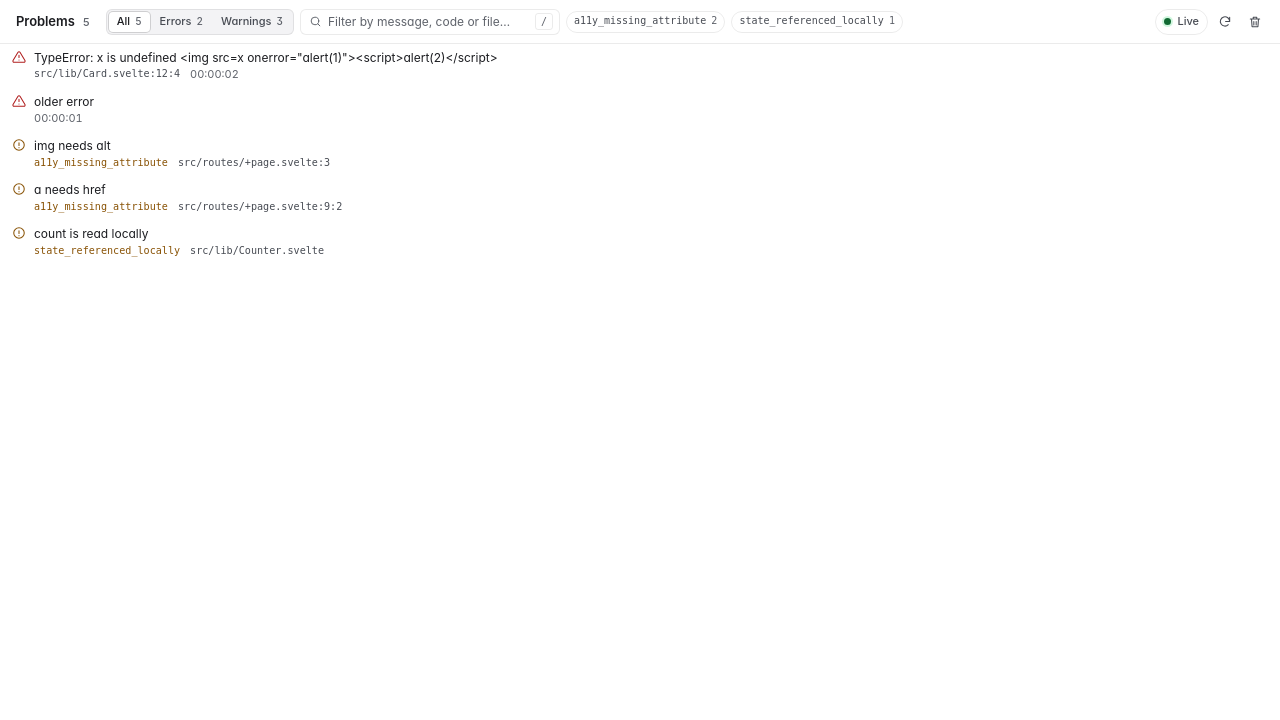
it: ErrorDashboard › keeps the selected error selected when a newer one arrives
This screenshot has width=1280, height=720.
Click the option "older error 00:00:01" at coordinates (53, 110), box top-left (12, 94), bottom-right (94, 125)
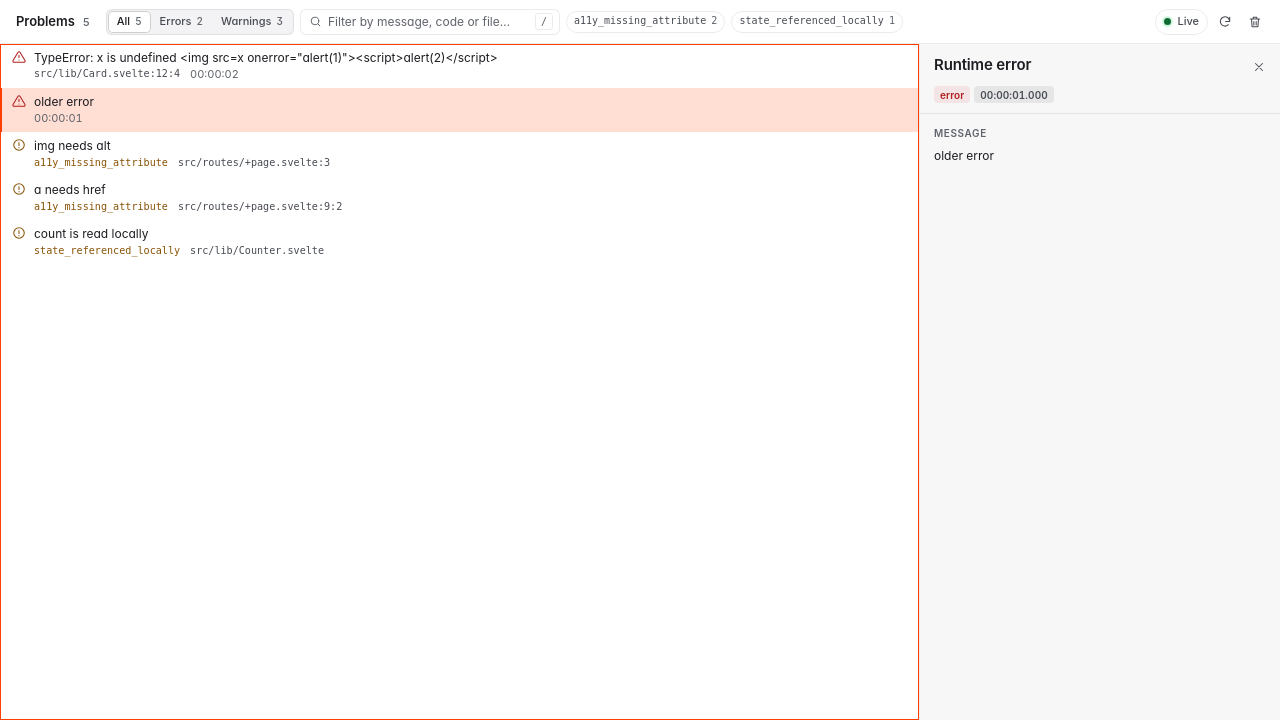
Result: the element showing "Runtime error error 00:00:01.000 Message older error" is shown at top-left (920, 54), bottom-right (1279, 162)
Click the button named "Refresh" at coordinates (1225, 22), box top-left (1212, 8), bottom-right (1238, 34)
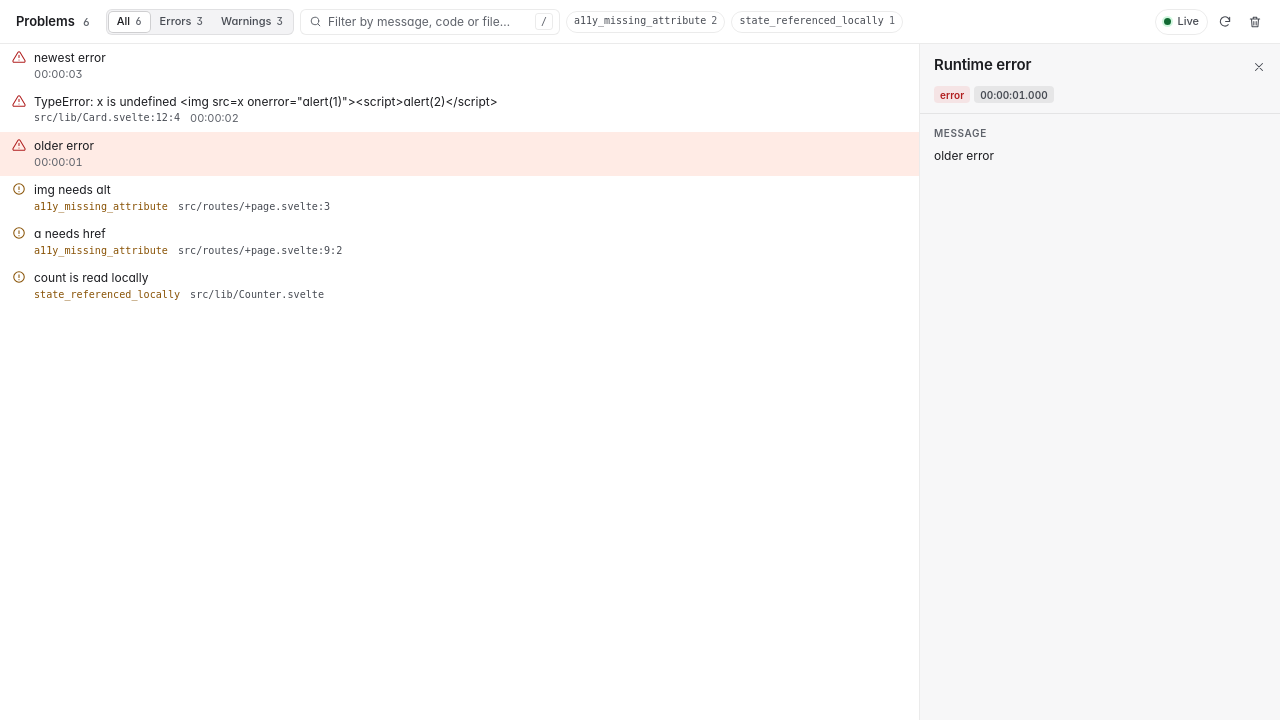
Expected: the text with class "msg" below "00:00:02" reads "older error", top-left (34, 138), bottom-right (94, 153)
Result: the element showing "Runtime error error 00:00:01.000 Message older error" is shown at top-left (920, 54), bottom-right (1279, 162)
Result: the text with class "msg" reads "newest error" at top-left (34, 50), bottom-right (106, 65)
